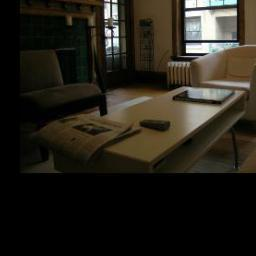Otro Obstaculo: (168, 60, 194, 89)
Puerta: (96, 0, 133, 86)
